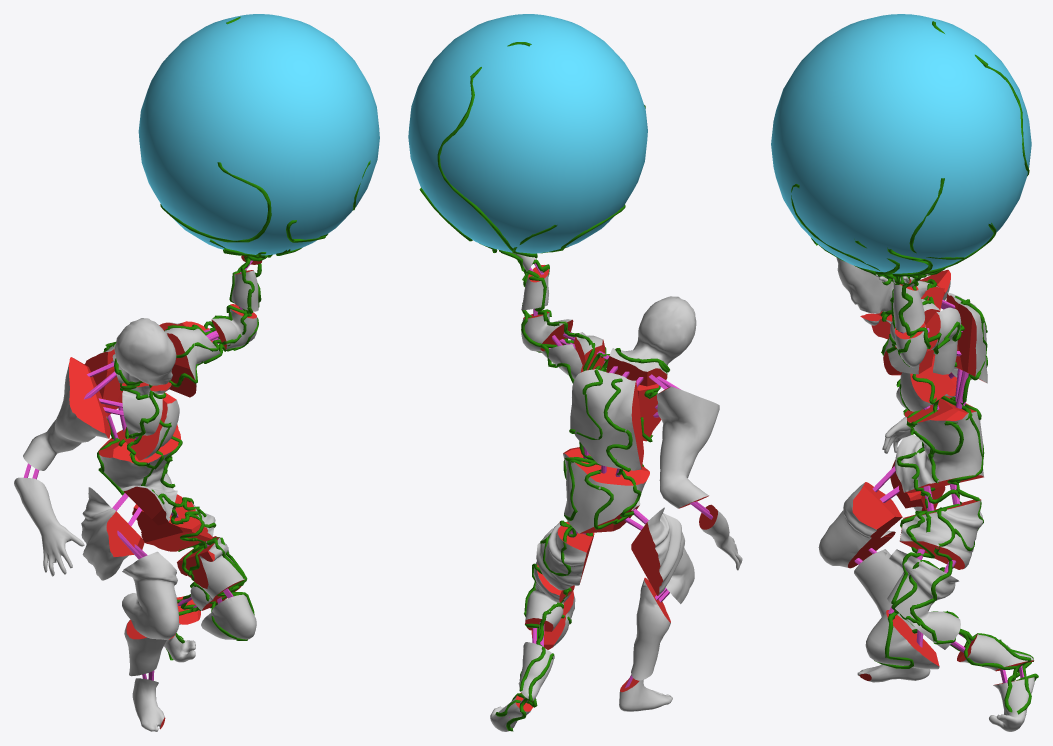
File: Statue_Upcycled.Marvel.fbx
3 renders of one model, left to right at view 1: azimuth 30°, elevation 25°; view 2: azimuth 150°, elevation 25°; view 3: azimuth 270°, elevation 25°, orthographic. The views are drawn at different scales.
Visible parts, largest first — view 1: Statue_low.004, BézierCurve, Statue_low.002_cell.058, Statue_low.002_cell.043, Statue_low.002_cell.048, Statue_low.002_cell.044, Statue_low.002_cell.059, Statue_low.002_cell.038, Statue_low.002_cell.055, Statue_low.002_cell.053, Statue_low.002_cell.041, Statue_low.002_cell.050 (+8 smaller); view 2: Statue_low.004, BézierCurve, Statue_low.002_cell.049, Statue_low.002_cell.058, Statue_low.002_cell.044, Statue_low.002_cell.048, Statue_low.002_cell.059, Statue_low.002_cell.053, Statue_low.002_cell.054, Statue_low.002_cell.055, Statue_low.002_cell.051, Statue_low.002_cell.060 (+9 smaller); view 3: Statue_low.004, BézierCurve, Statue_low.002_cell.048, Statue_low.002_cell.043, Statue_low.002_cell.055, Statue_low.002_cell.053, Statue_low.002_cell.050, Statue_low.002_cell.044, Statue_low.002_cell.049, Statue_low.002_cell.054, Statue_low.002_cell.047, Statue_low.002_cell.057 (+10 smaller).
Part boxes in pixels (<box>): Statue_low.004: <box>138,14,379,255</box>; BézierCurve: <box>97,17,370,660</box>; Statue_low.002_cell.058: <box>23,357,110,470</box>; Statue_low.002_cell.043: <box>122,551,178,639</box>; Statue_low.002_cell.048: <box>98,424,181,525</box>; Statue_low.002_cell.044: <box>112,318,176,385</box>; Statue_low.002_cell.059: <box>81,487,144,580</box>; Statue_low.002_cell.038: <box>14,477,84,576</box>; Statue_low.002_cell.055: <box>177,536,244,610</box>; Statue_low.002_cell.053: <box>132,494,215,551</box>; Statue_low.002_cell.041: <box>165,328,220,397</box>; Statue_low.002_cell.050: <box>201,594,256,639</box>; Statue_low.004: <box>408,14,647,253</box>; BézierCurve: <box>419,42,669,731</box>; Statue_low.002_cell.049: <box>570,369,643,470</box>; Statue_low.002_cell.058: <box>657,386,719,508</box>; Statue_low.002_cell.044: <box>606,296,696,386</box>; Statue_low.002_cell.048: <box>563,447,649,533</box>; Statue_low.002_cell.059: <box>631,507,684,595</box>; Statue_low.002_cell.053: <box>536,522,594,590</box>; Statue_low.002_cell.054: <box>631,577,670,680</box>; Statue_low.002_cell.055: <box>525,561,574,631</box>; Statue_low.002_cell.051: <box>619,678,672,711</box>; Statue_low.002_cell.060: <box>521,311,573,351</box>; Statue_low.004: <box>771,14,1031,273</box>; BézierCurve: <box>791,21,1038,714</box>; Statue_low.002_cell.048: <box>894,396,983,492</box>; Statue_low.002_cell.043: <box>818,482,902,568</box>; Statue_low.002_cell.055: <box>887,549,960,649</box>; Statue_low.002_cell.053: <box>899,499,983,569</box>; Statue_low.002_cell.050: <box>865,610,939,669</box>; Statue_low.002_cell.044: <box>836,257,944,313</box>; Statue_low.002_cell.049: <box>946,292,987,383</box>; Statue_low.002_cell.054: <box>854,549,916,629</box>; Statue_low.002_cell.047: <box>896,354,955,411</box>; Statue_low.002_cell.057: <box>925,307,961,374</box>.
Bounding box in the file's own units: 386 × 764 × 258.
